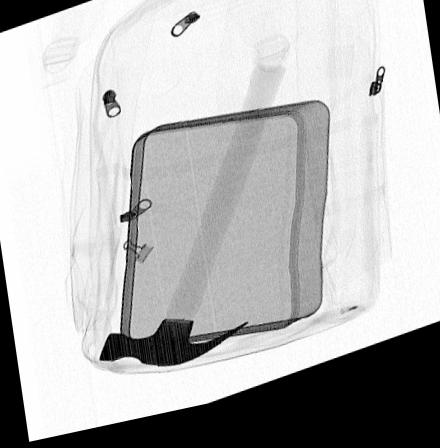Hammer: (99, 77, 286, 374)
